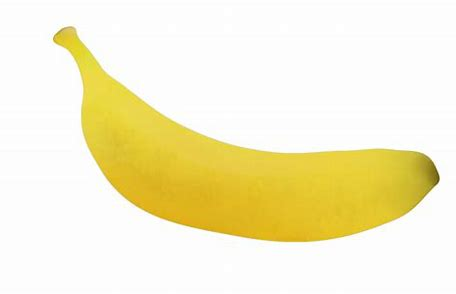banana: (51, 23, 440, 243)
